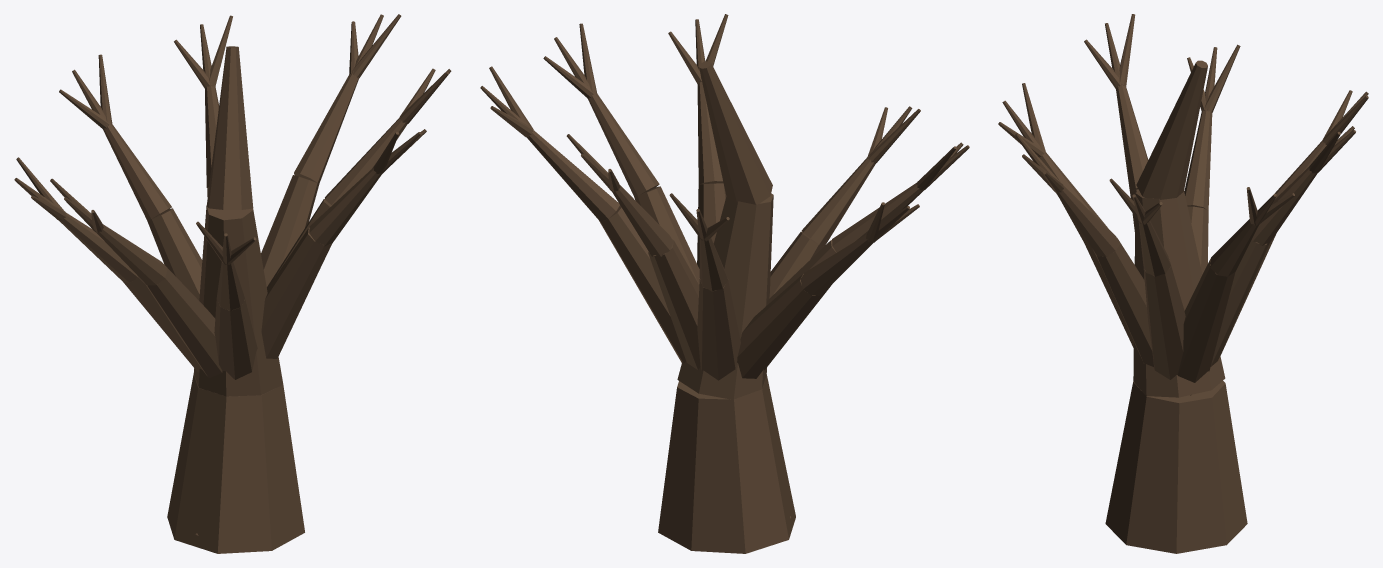
File: apple_ancient_winter.glb
3 views of the same model, side by side, from view 1: azimuth 30°, elevation 25°; view 2: azimuth 150°, elevation 25°; view 3: azimuth 270°, elevation 25° (orthographic).
Parts seen in each view (by area): view 1: apple_ancient_winter; view 2: apple_ancient_winter; view 3: apple_ancient_winter.
Part boxes in pixels (x1,y1,x2,y2): apple_ancient_winter: [14, 14, 451, 553]; apple_ancient_winter: [480, 14, 969, 553]; apple_ancient_winter: [998, 14, 1368, 553].
Size of the model in its own units: 15.52 by 16.98 by 12.24.
